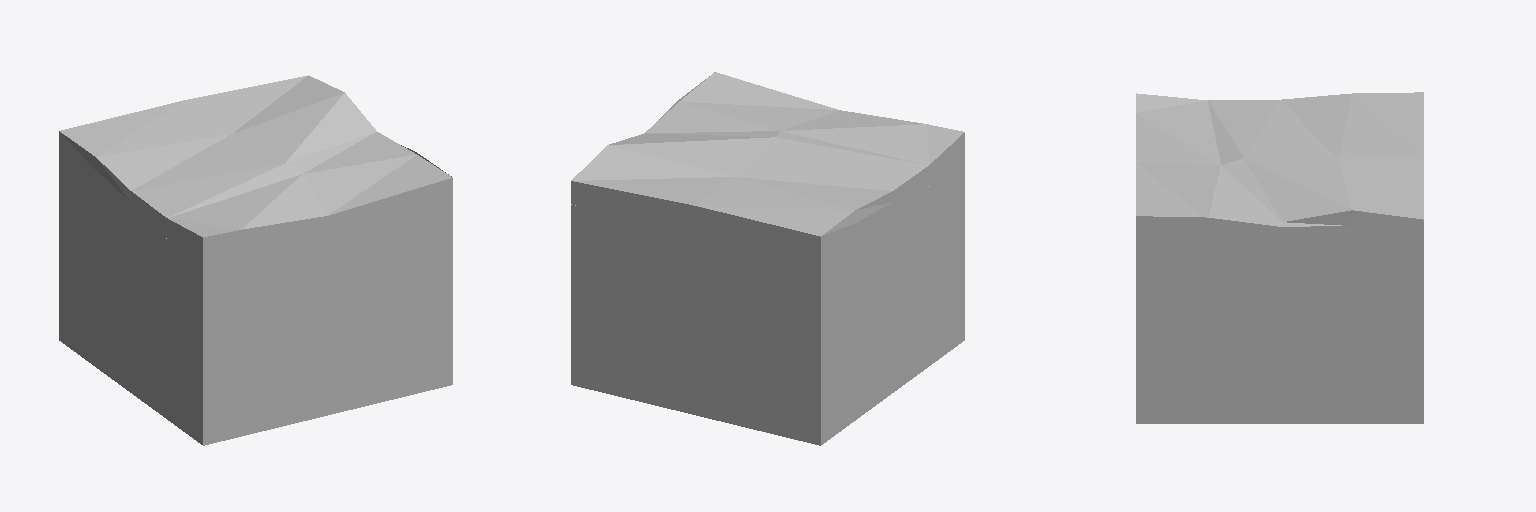
Rendered from grassW8.obj.
3 renders of one model, left to right at view 1: azimuth 30°, elevation 25°; view 2: azimuth 150°, elevation 25°; view 3: azimuth 270°, elevation 25°, orthographic.
Visible parts, largest first — view 1: Cube; view 2: Cube; view 3: Cube.
Boxes of the visible parts, <box> form: Cube: <box>59,75,452,445</box>; Cube: <box>571,72,964,445</box>; Cube: <box>1136,92,1423,423</box>.
Size of the model in its own units: 159 by 130 by 159.